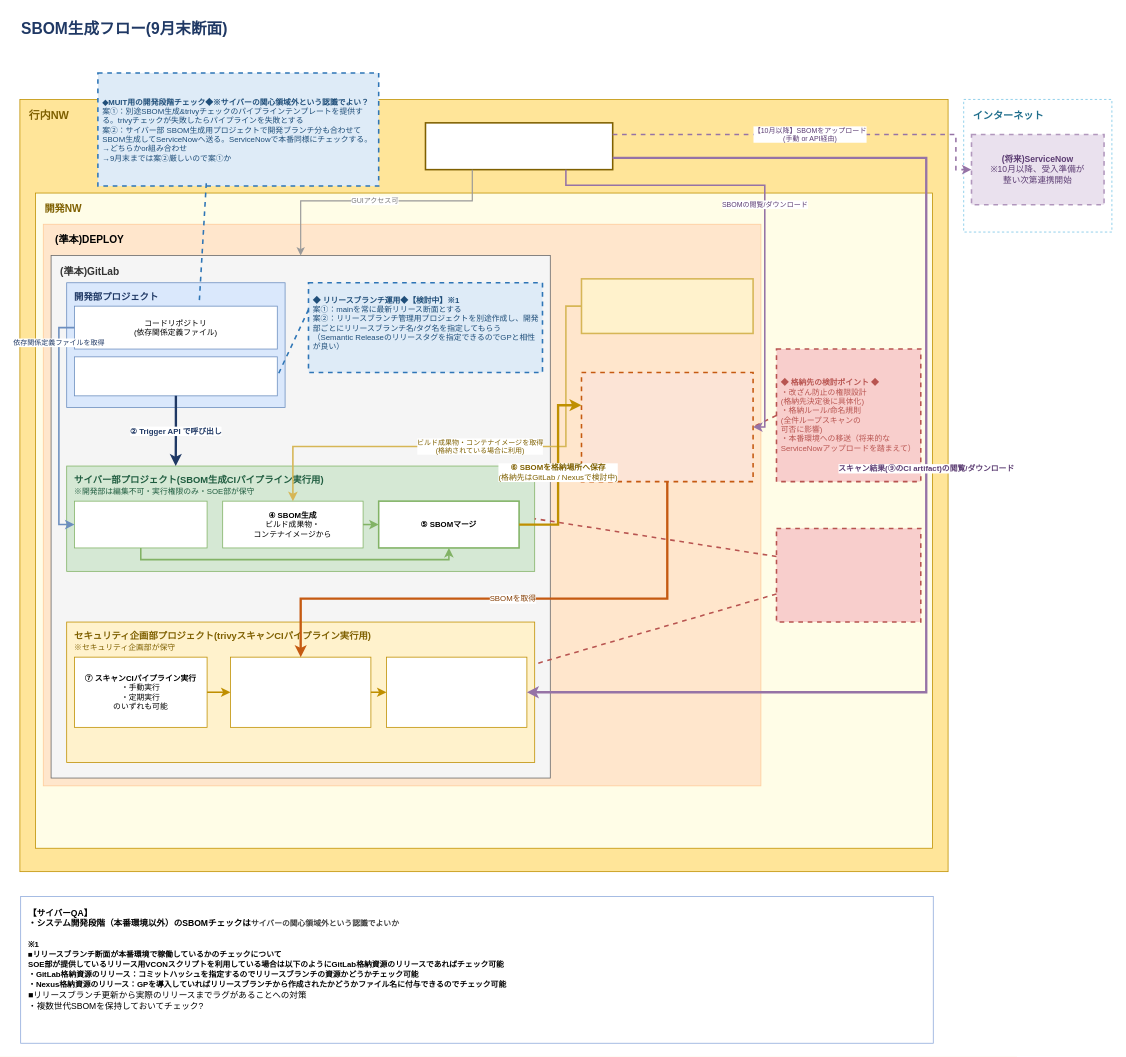
The diagram is 1126 pixels wide and 1057 high, and some of its shapes have lost their labels. The shapes that lost their labels are listed below. From the top down, each one's centre as x and y in pixels, then its label:
the point at 518,146: KOHAKU
the point at 666,306: (準本Hosted)Nexus ビルド成果物 / コンテナイメージ
the point at 175,376: ① CIパイプライン実行 (ビルド・テスト等) ※mainブランチ更新の都度実行
the point at 666,426: SBOM格納場所【検討中】 案1: (準本)GitLab 案2: (準本Hosted)Nexus ※格納方式・命名ルールも 併せて検討
the point at 140,524: ③ SBOM生成 依存関係定義 ファイルから
the point at 848,574: ◆ 改ざん防止(GitLab) ◆ SBOM生成用・スキャン用 プロジェクトは開発部に 編集権限を付与しない (実行権限のみ付与)
the point at 300,691: ⑧ SBOM取得 格納場所(GitLab or Nexus)から ・手動指定(実行時環境変数) ・または格納ルールに従い 全SBOMをループで取得
the point at 456,691: ⑨ trivyスキャン実行・結果保存 CycloneDX形式SBOMに脆弱性 情報が付与された結果を CI artifactとして保存
